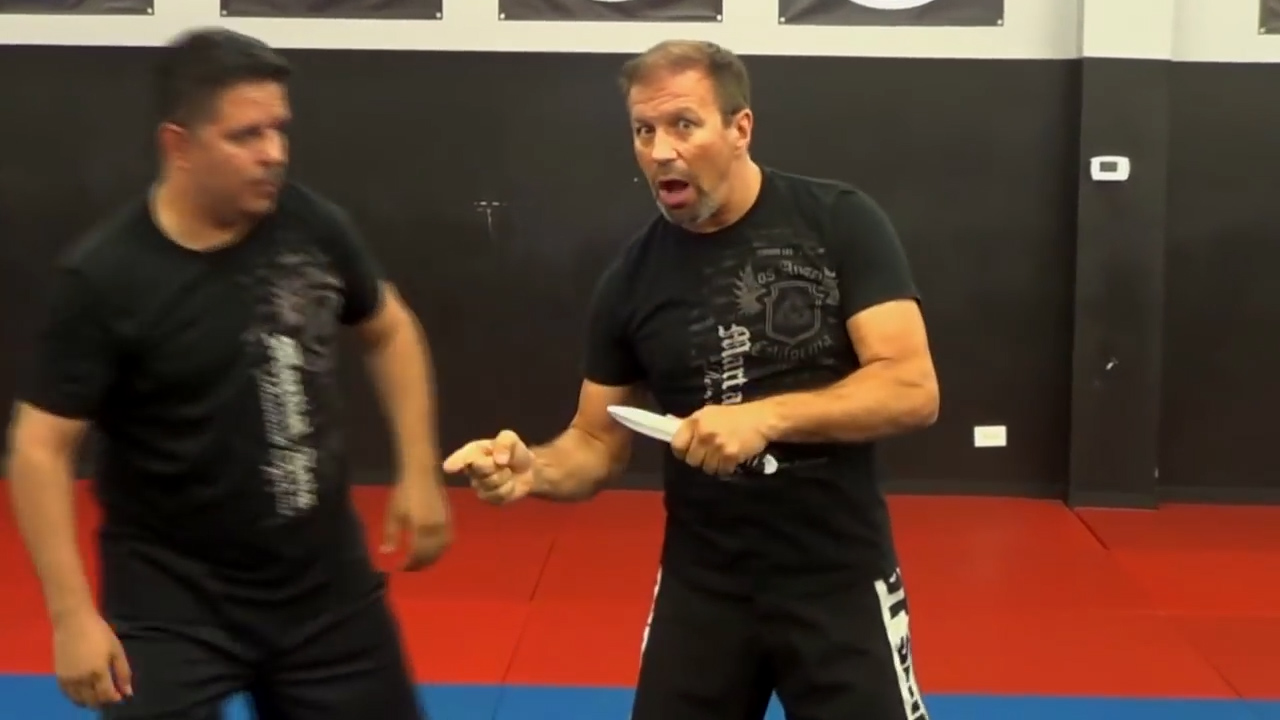knife: (596, 394, 786, 488)
